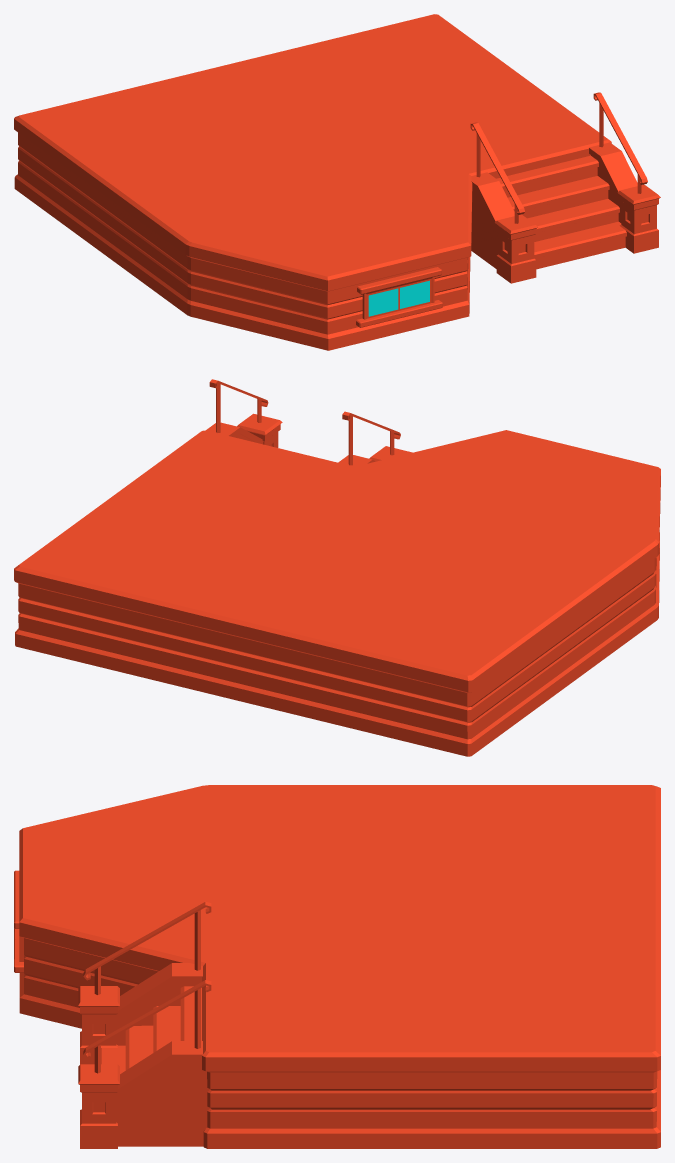
File: SM_Bayhouse_Bottom_Small_A_F_City.fbx
3 views of the same model, one above another, from view 1: azimuth 30°, elevation 25°; view 2: azimuth 150°, elevation 25°; view 3: azimuth 270°, elevation 25° (orthographic). The views are drawn at different scales.
Visible parts, largest first — view 1: SM_Bayhouse_Bottom_Small_A_F_City; view 2: SM_Bayhouse_Bottom_Small_A_F_City; view 3: SM_Bayhouse_Bottom_Small_A_F_City.
Part boxes in pixels (left/top/right/bottom): SM_Bayhouse_Bottom_Small_A_F_City: left=14, top=14, right=660, bottom=350; SM_Bayhouse_Bottom_Small_A_F_City: left=14, top=379, right=660, bottom=756; SM_Bayhouse_Bottom_Small_A_F_City: left=14, top=785, right=660, bottom=1148.
Size of the model in its own units: 6.08 by 1.67 by 6.14.
